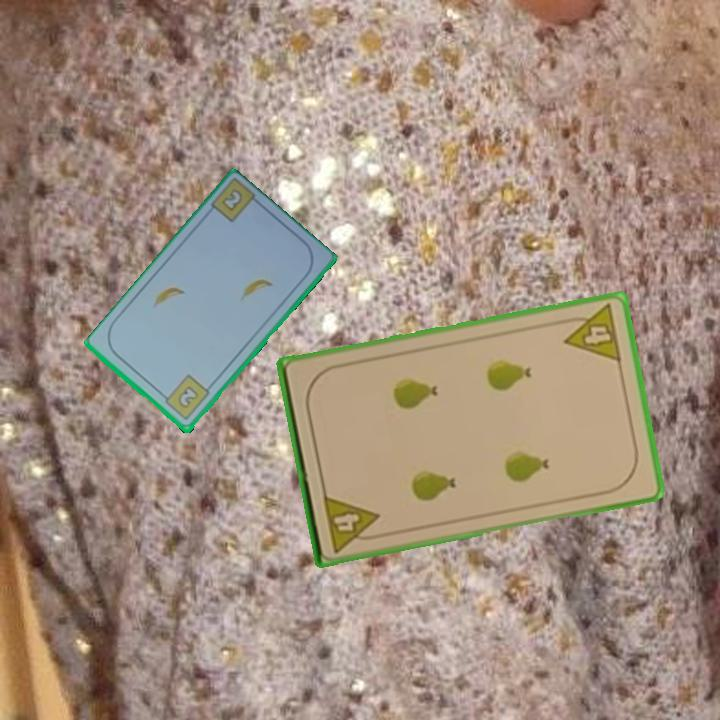2b: (158, 371, 212, 424), (218, 186, 246, 215)
4p: (557, 301, 624, 365), (319, 491, 385, 555)
